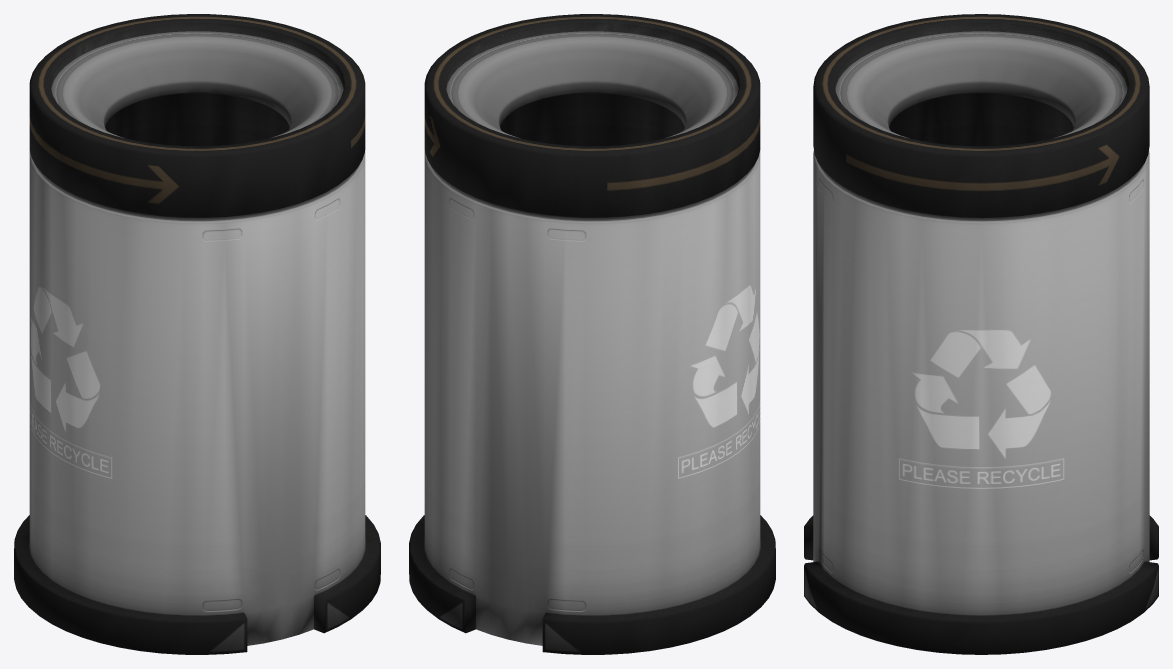
The model's file is WasteBin.fbx.
3 views of the same model, side by side, from view 1: azimuth 30°, elevation 25°; view 2: azimuth 150°, elevation 25°; view 3: azimuth 270°, elevation 25° (orthographic).
Parts seen in each view (by area): view 1: SM_WasteBin; view 2: SM_WasteBin; view 3: SM_WasteBin.
Boxes of the visible parts, x1,y1,x2,y2 form: SM_WasteBin: [14, 14, 380, 654]; SM_WasteBin: [409, 14, 775, 654]; SM_WasteBin: [804, 14, 1158, 654].
Bounding box in the file's own units: 47.18 × 70.13 × 45.63.
